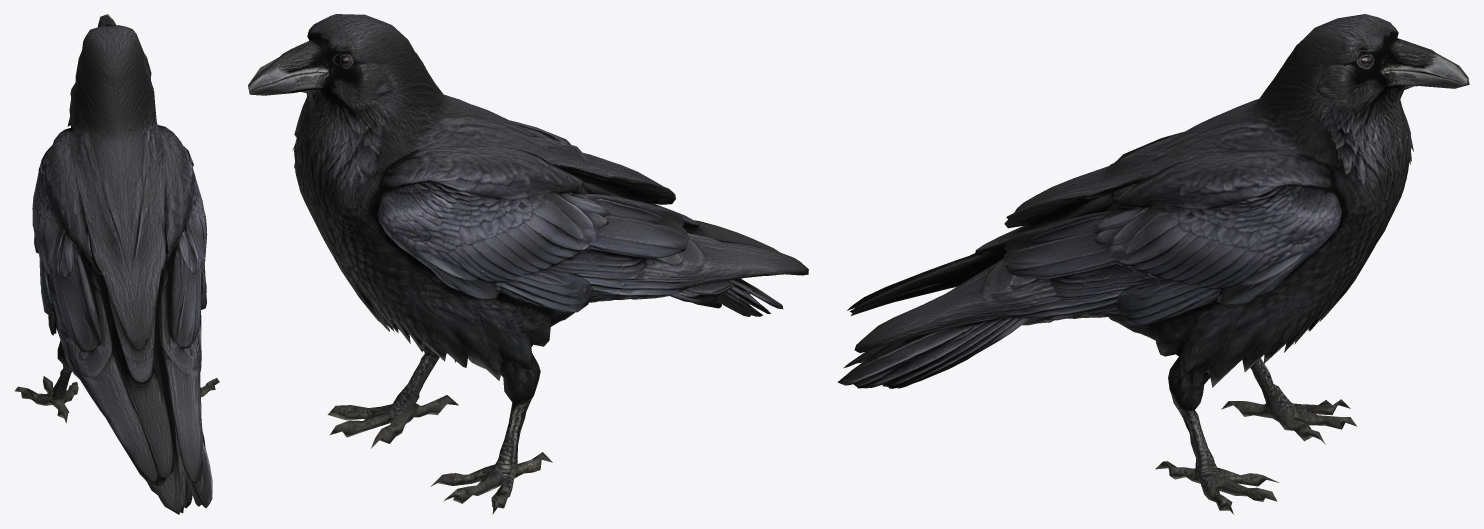
The model's file is raven.glb.
The picture shows the model from 3 angles, left to right: view 1: azimuth 30°, elevation 25°; view 2: azimuth 150°, elevation 25°; view 3: azimuth 270°, elevation 25°; orthographic projection. The views are drawn at different scales.
Visible parts, largest first — view 1: tripo_node_84c92c53-9d6a-4100-862c-87b2e043dfe7; view 2: tripo_node_84c92c53-9d6a-4100-862c-87b2e043dfe7; view 3: tripo_node_84c92c53-9d6a-4100-862c-87b2e043dfe7.
Part boxes in pixels (left/top/right/bottom): tripo_node_84c92c53-9d6a-4100-862c-87b2e043dfe7: left=14, top=14, right=219, bottom=514; tripo_node_84c92c53-9d6a-4100-862c-87b2e043dfe7: left=248, top=14, right=808, bottom=514; tripo_node_84c92c53-9d6a-4100-862c-87b2e043dfe7: left=837, top=14, right=1469, bottom=514.
Size of the model in its own units: 0.4762 by 0.7268 by 0.9086.
1 material, 1 textured.
